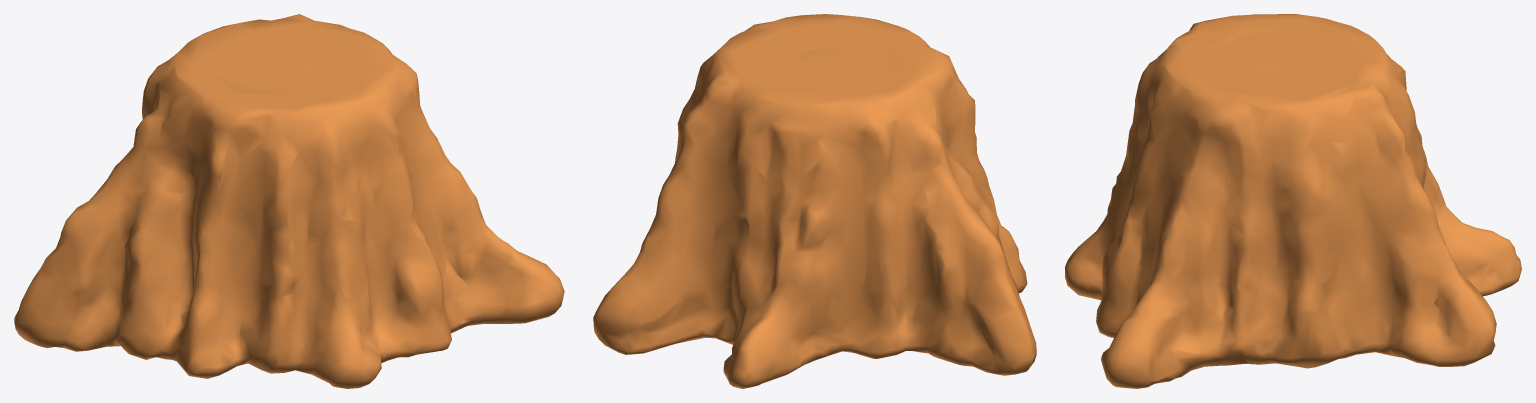
File: Stump.fbx
3 views of the same model, side by side, from view 1: azimuth 30°, elevation 25°; view 2: azimuth 150°, elevation 25°; view 3: azimuth 270°, elevation 25° (orthographic).
Visible parts, largest first — view 1: Stump; view 2: Stump; view 3: Stump.
Part boxes in pixels (box(x1,y1,x2,y2)): Stump: box(14, 14, 564, 388); Stump: box(593, 14, 1036, 388); Stump: box(1065, 14, 1521, 388).
Size of the model in its own units: 143 by 78.53 by 128.
